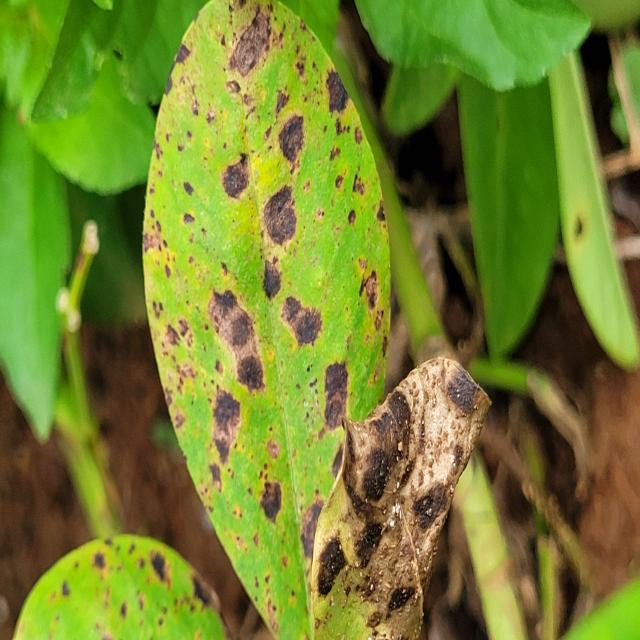Ground nut_tikka leaf spot: (140, 0, 393, 640)
